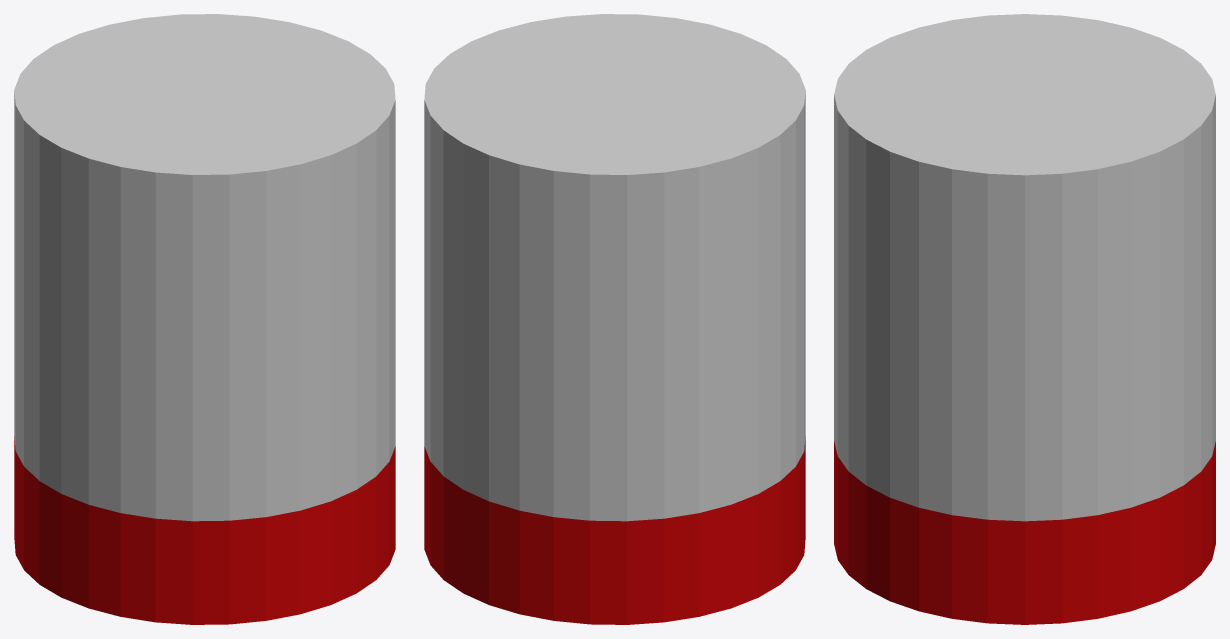
Rendered from Shotgun_Shell.fbx.
The picture shows the model from 3 angles, left to right: view 1: azimuth 30°, elevation 25°; view 2: azimuth 150°, elevation 25°; view 3: azimuth 270°, elevation 25°; orthographic projection.
Visible parts, largest first — view 1: Cylinder; view 2: Cylinder; view 3: Cylinder.
Part boxes in pixels (x1,y1,x2,y2): Cylinder: (14, 14, 395, 624); Cylinder: (424, 14, 805, 624); Cylinder: (834, 14, 1215, 624).
Bounding box in the file's own units: 10 × 13 × 10.
